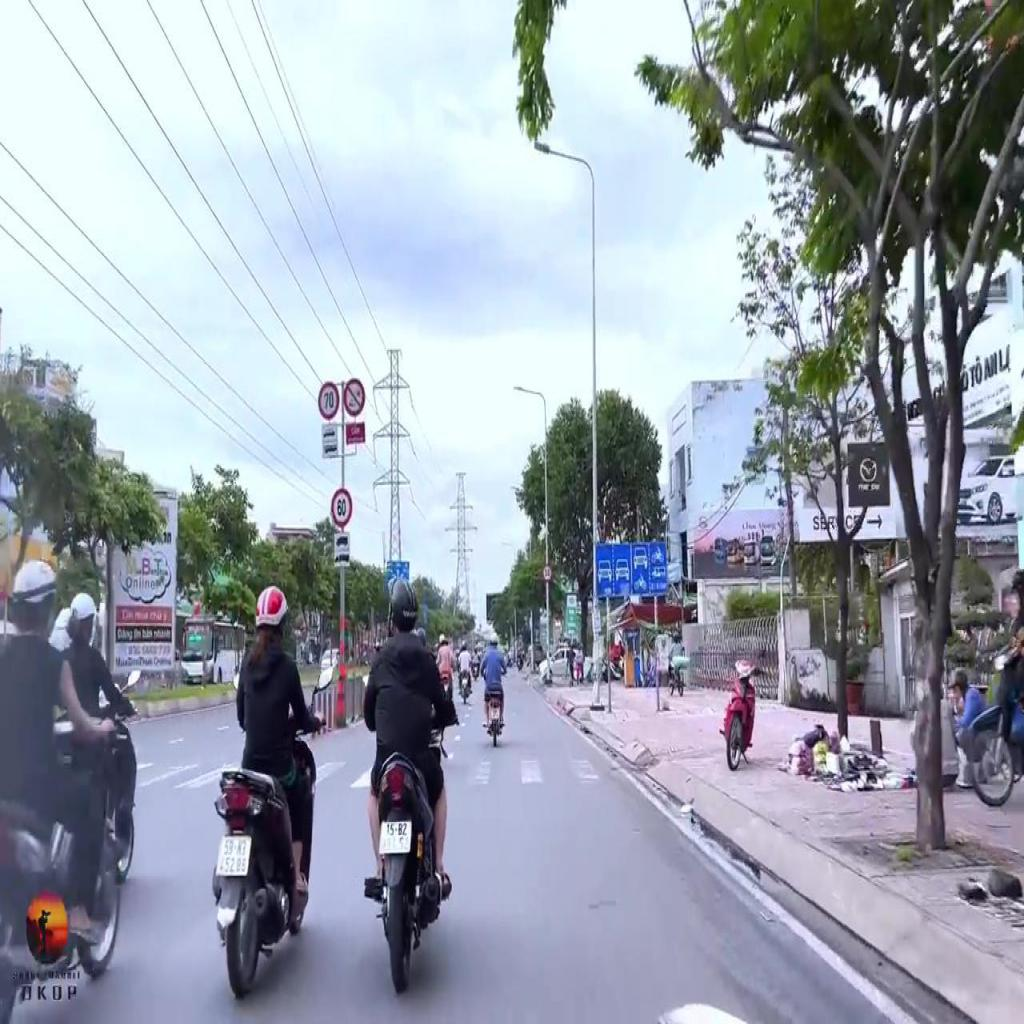cam_xe_2_banh_va_xe_3_banh_co_dong_co: (344, 377, 366, 418)
khac: (318, 381, 340, 421), (334, 550, 350, 568), (322, 441, 338, 459), (334, 534, 350, 550), (322, 424, 336, 442)
lan_duong_cho_tung_xe_theo_vach_ke_duong: (594, 542, 669, 599)
toc_do_toi_da_60: (331, 488, 353, 528)
